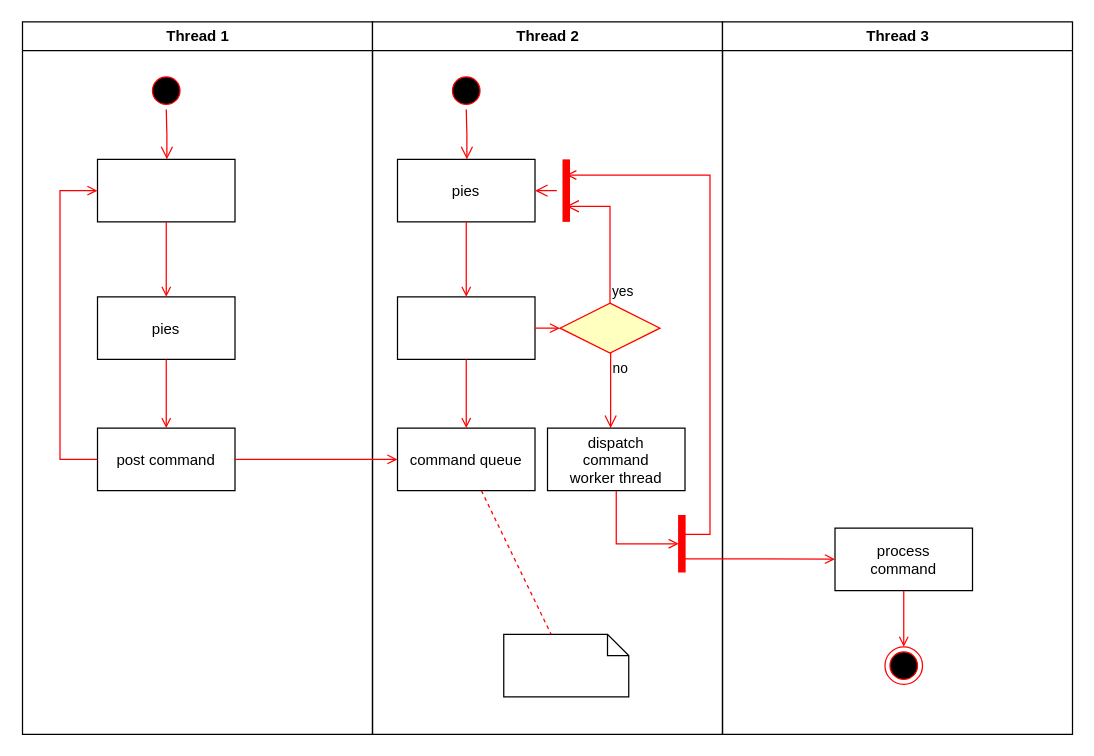
This 1094x756 diagram has some shape labels left out. The box of each missing label's shape, as (x1, y1, x2, y2) in pixels:
check for new commands: (396, 296, 535, 359)
critical section: (502, 633, 629, 697)
idle: (96, 158, 235, 222)
queue empty: (559, 302, 660, 353)
